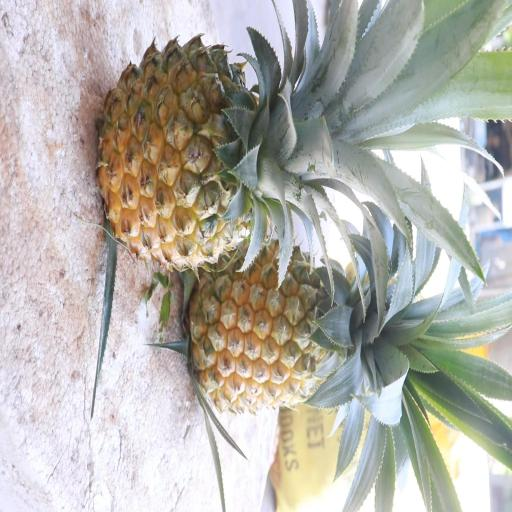Pineapple - v8 v1: (94, 32, 338, 272), (185, 232, 397, 420)
